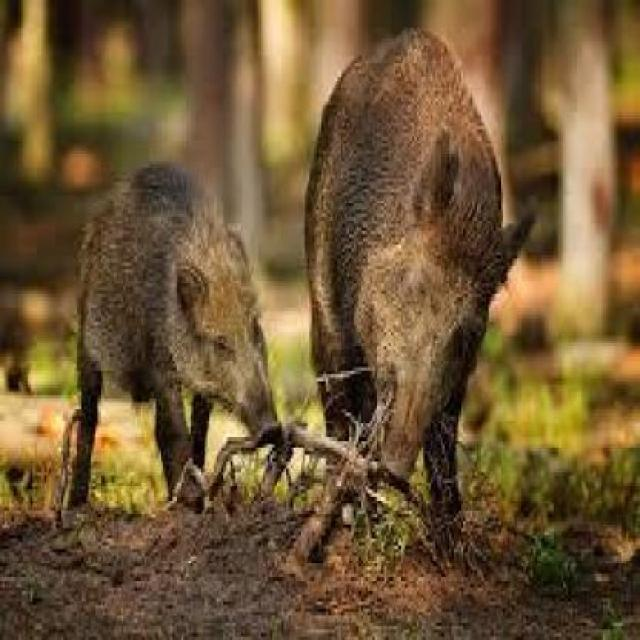wildboar: (290, 13, 542, 555), (52, 131, 288, 527)
